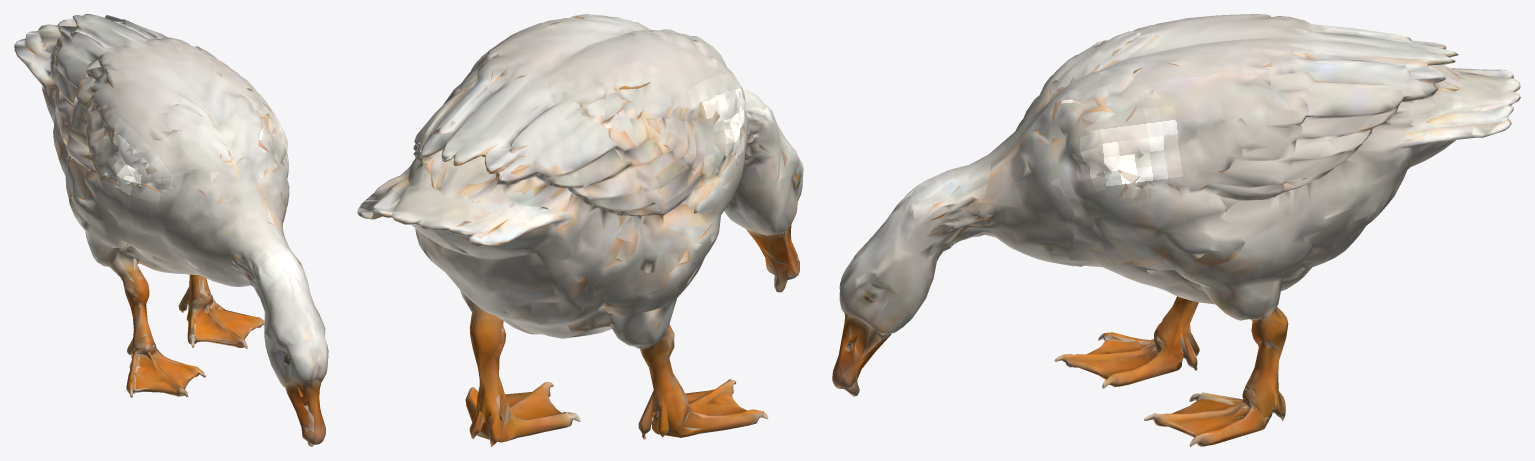
The model's file is kit_goose_foraging.glb.
3 renders of one model, left to right at view 1: azimuth 30°, elevation 25°; view 2: azimuth 150°, elevation 25°; view 3: azimuth 270°, elevation 25°, orthographic. The views are drawn at different scales.
Visible parts, largest first — view 1: Mesh1.0; view 2: Mesh1.0; view 3: Mesh1.0.
Boxes of the visible parts, box(x1,y1,x2,y2) form: Mesh1.0: box(14, 14, 328, 446); Mesh1.0: box(357, 14, 803, 446); Mesh1.0: box(832, 14, 1520, 446).
Bounding box in the file's own units: 0.4033 × 0.6 × 1.04.
1 material, 1 textured.
